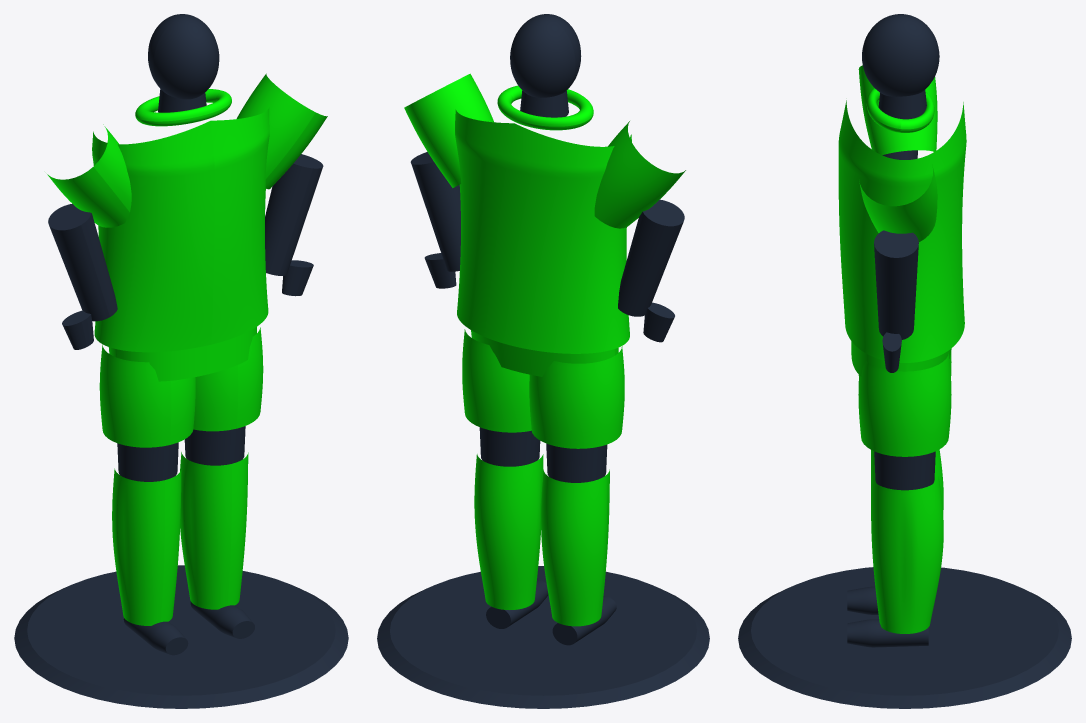
The model's file is kit_full_outfit_clean.glb.
3 renders of one model, left to right at view 1: azimuth 30°, elevation 25°; view 2: azimuth 150°, elevation 25°; view 3: azimuth 270°, elevation 25°, orthographic.
Parts seen in each view (by area): view 1: jersey_torso, mannequin_pedestal, socks_right, socks_left, shorts_leg_right, mannequin_arm_right, mannequin_arm_left, mannequin_head, shorts_leg_left, jersey_sleeve_left, jersey_sleeve_right, shorts_pelvis (+6 smaller); view 2: jersey_torso, mannequin_pedestal, socks_right, socks_left, shorts_leg_right, mannequin_arm_right, shorts_leg_left, mannequin_head, jersey_sleeve_right, jersey_sleeve_left, mannequin_arm_left, shorts_pelvis (+6 smaller); view 3: mannequin_pedestal, jersey_torso, socks_left, shorts_leg_left, mannequin_head, mannequin_arm_left, jersey_sleeve_left, jersey_sleeve_right, mannequin_knee_left, mannequin_boot_left, jersey_collar, mannequin_neck (+2 smaller).
Part boxes in pixels (x1,y1,x2,y2): jersey_torso: (92,107,269,352); mannequin_pedestal: (14,565,348,708); socks_right: (112,468,181,625); socks_left: (180,452,248,609); shorts_leg_right: (99,344,195,447); mannequin_arm_right: (48,203,117,349); mannequin_arm_left: (265,154,323,296); mannequin_head: (148,14,219,99); shorts_leg_left: (193,327,263,431); jersey_sleeve_left: (236,73,327,189); jersey_sleeve_right: (47,124,131,227); shorts_pelvis: (108,327,256,381); jersey_torso: (455,109,631,353); mannequin_pedestal: (377,566,709,708); socks_right: (541,469,609,626); socks_left: (474,454,543,609); shorts_leg_right: (529,346,624,448); mannequin_arm_right: (618,199,684,342); shorts_leg_left: (462,329,531,432); mannequin_head: (510,14,581,97); jersey_sleeve_right: (594,121,685,228); jersey_sleeve_left: (404,73,493,187); mannequin_arm_left: (410,152,460,288); shorts_pelvis: (471,330,618,376); mannequin_pedestal: (738,567,1071,708); jersey_torso: (838,100,966,362); socks_left: (871,476,943,633); shorts_leg_left: (858,352,951,456); mannequin_head: (862,14,939,96); mannequin_arm_left: (874,230,918,372); jersey_sleeve_left: (859,164,937,241); jersey_sleeve_right: (858,65,937,155); mannequin_knee_left: (874,451,935,490); mannequin_boot_left: (847,619,928,647); jersey_collar: (866,88,934,132); mannequin_neck: (878,90,926,119).
Size of the model in its own units: 1.56 by 3.21 by 1.56.
Materials: 4 (3 with a texture image).
